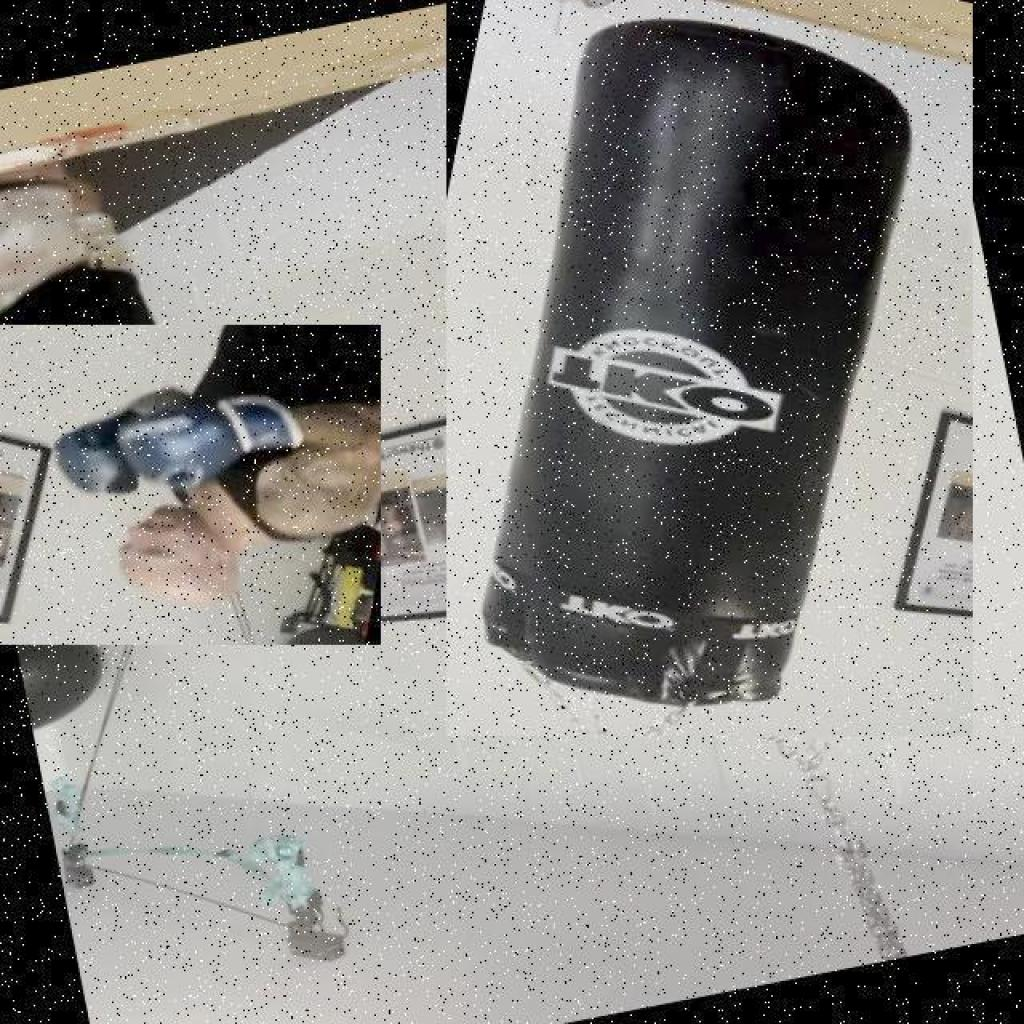bag: (446, 0, 973, 736)
no punch: (0, 325, 381, 645)
